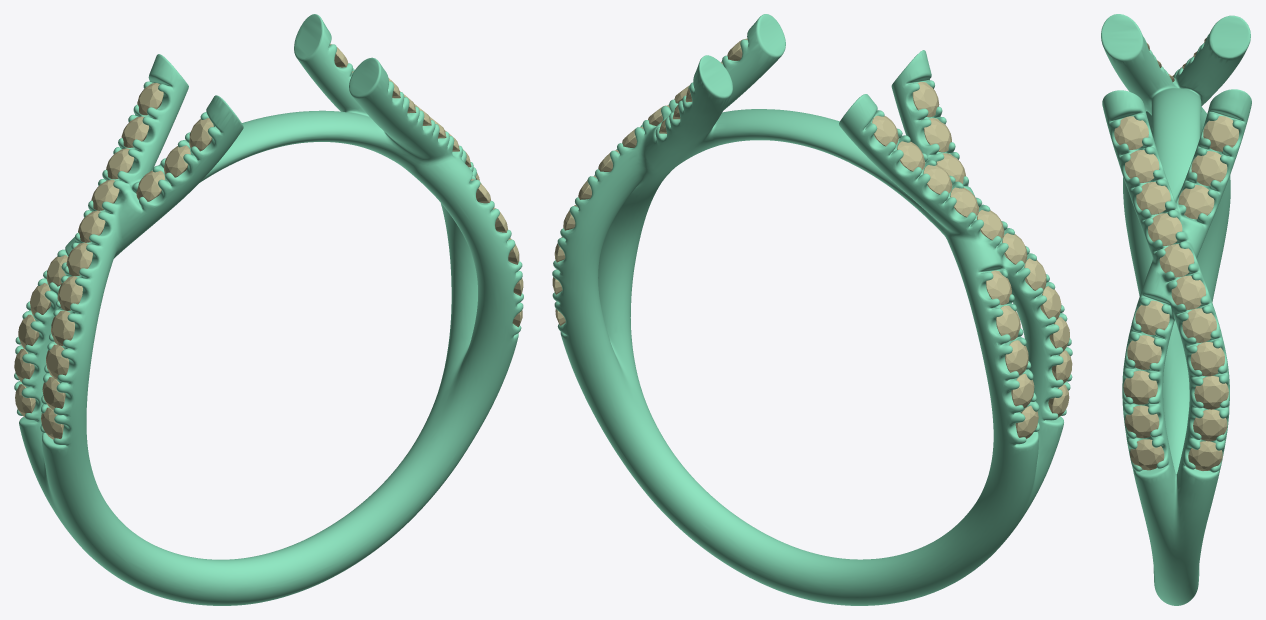
3 renders of one model, left to right at view 1: azimuth 30°, elevation 25°; view 2: azimuth 150°, elevation 25°; view 3: azimuth 270°, elevation 25°, orthographic. The views are drawn at different scales.
Parts seen in each view (by area): view 1: Metal02; view 2: Metal02; view 3: Metal02, Diamond_Gem.011, Diamond_Gem.012, Diamond_Gem.003, Diamond_Gem.004, Diamond_Gem.013, Diamond_Gem.015, Diamond_Gem.005, Diamond_Gem.016, Diamond_Gem.010, Diamond_Gem.014, Diamond_Gem.002 (+8 smaller).
Part boxes in pixels (bbox=[...]): Metal02: bbox=[14, 14, 523, 605]; Metal02: bbox=[552, 14, 1072, 605]; Metal02: bbox=[1101, 14, 1251, 605]; Diamond_Gem.011: bbox=[1203, 116, 1238, 151]; Diamond_Gem.012: bbox=[1191, 151, 1227, 186]; Diamond_Gem.003: bbox=[1190, 342, 1224, 376]; Diamond_Gem.004: bbox=[1182, 308, 1216, 342]; Diamond_Gem.013: bbox=[1178, 185, 1214, 219]; Diamond_Gem.015: bbox=[1127, 335, 1161, 369]; Diamond_Gem.005: bbox=[1171, 275, 1205, 309]; Diamond_Gem.016: bbox=[1123, 370, 1157, 404]; Diamond_Gem.010: bbox=[1114, 116, 1148, 149]; Diamond_Gem.014: bbox=[1135, 300, 1169, 334]; Diamond_Gem.002: bbox=[1194, 376, 1228, 409].
Bounding box in the file's own units: 21.05 × 22.83 × 5.9.
